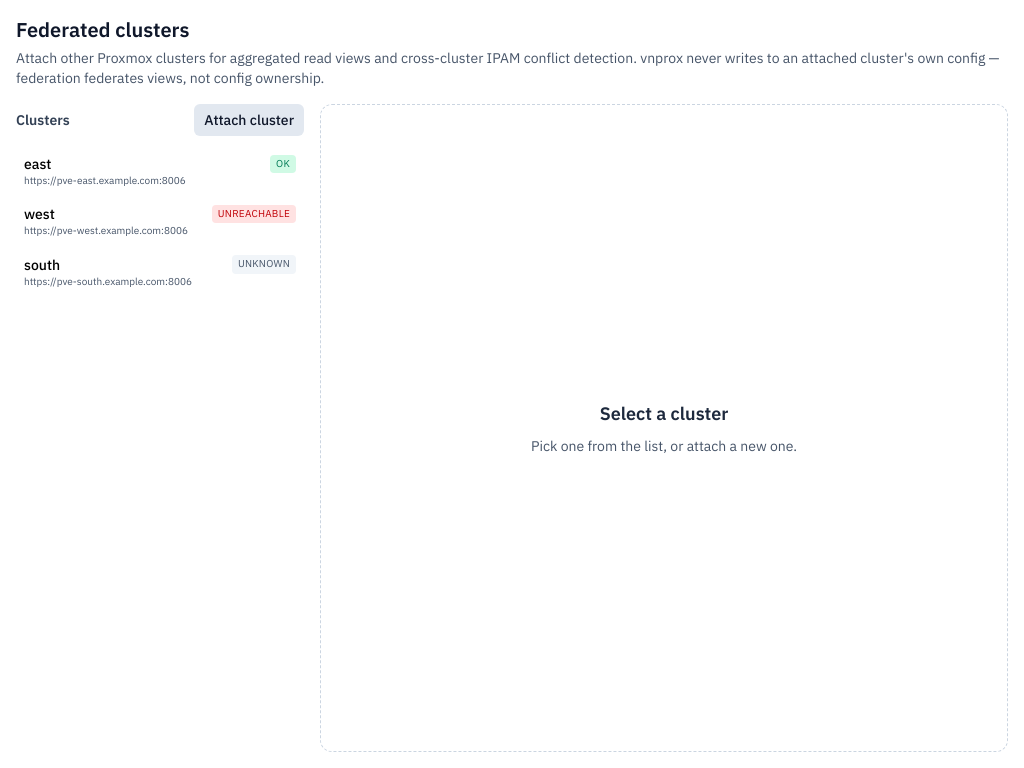
FederationClusters tunnel linkage (wgTunnelSource) › distinguishes an explicit override from a peer-derived link, and states the clearing consequence
Click the button "west unreachable https://pve-west.example.com:8006".
click(160, 221)  # box [16,198,304,245]
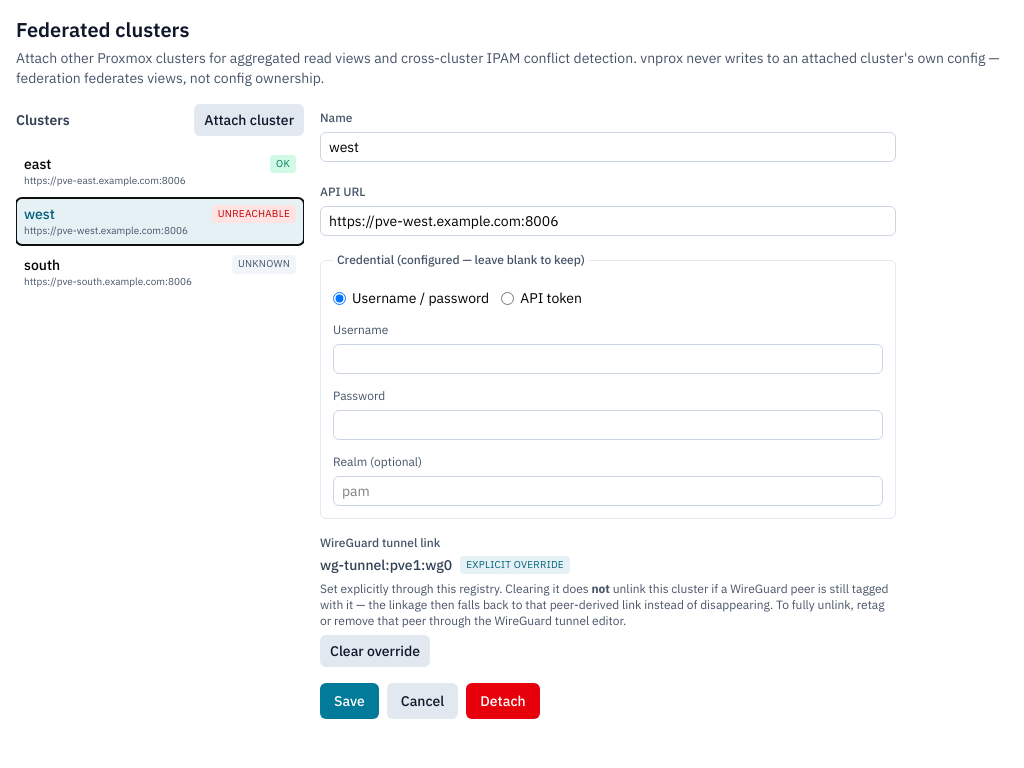
Result: the element with test id "tunnel-linkage" shows "wg-tunnel:pve1:wg0" at [320,556,452,574]
Result: the element with test id "tunnel-linkage" shows "explicit override" at [466,558,564,571]
Result: the button "Clear override" is shown at [320,635,430,667]
Click the button "south unknown https://pve-south.example.com:8006".
click(160, 272)  # box [16,249,304,295]
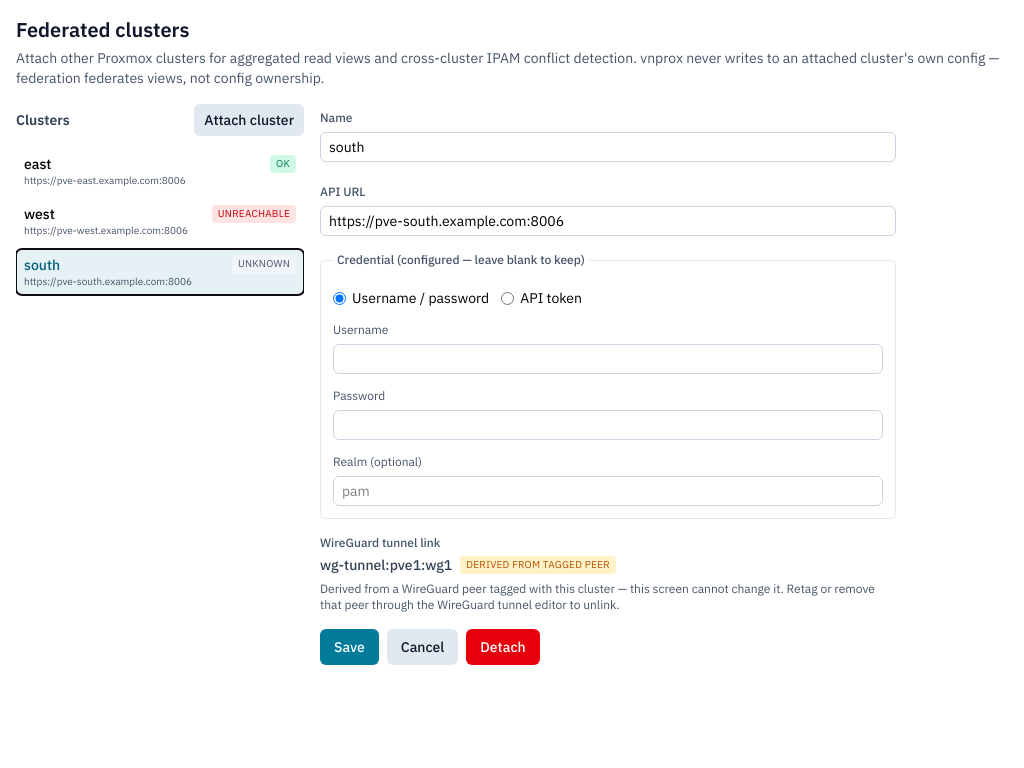
Result: the element with test id "tunnel-linkage" shows "wg-tunnel:pve1:wg1" at [320,556,452,574]
Result: the element with test id "tunnel-linkage" shows "derived from tagged peer" at [466,558,610,571]
Result: the button "Clear override" is gone
